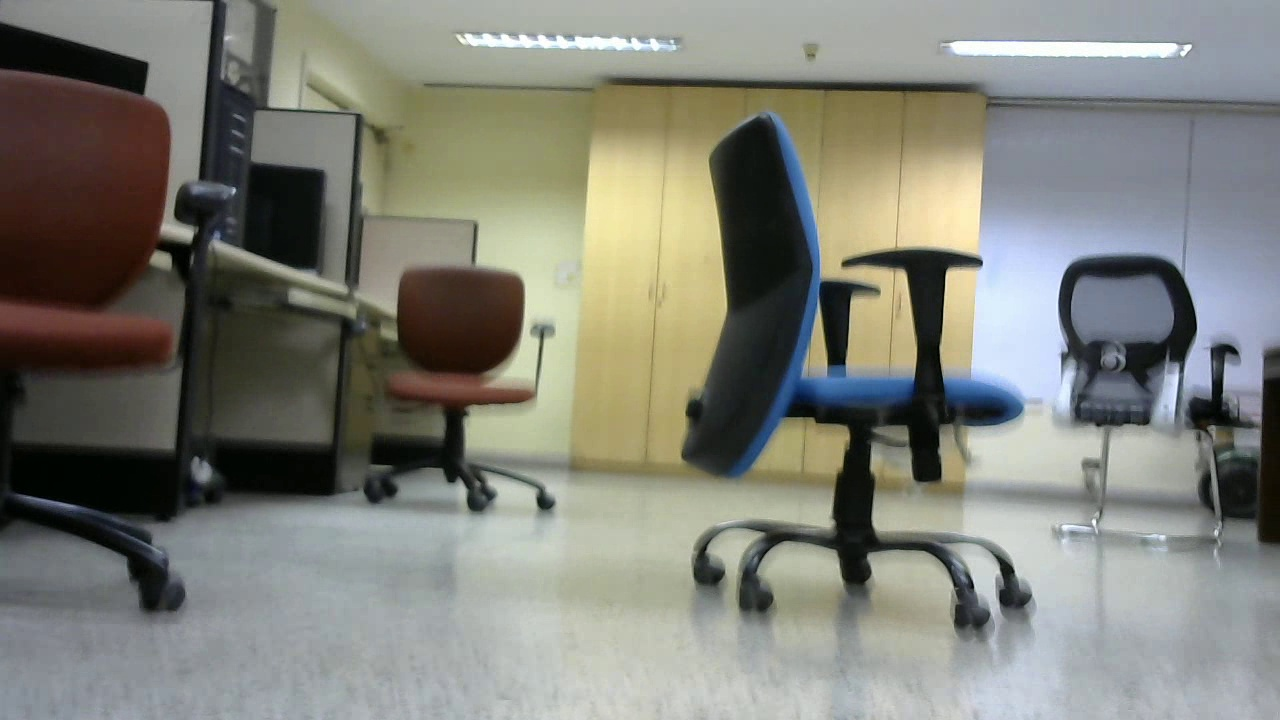chair: (679, 111, 1033, 628), (3, 66, 196, 615), (364, 258, 566, 522), (1057, 246, 1228, 552)
